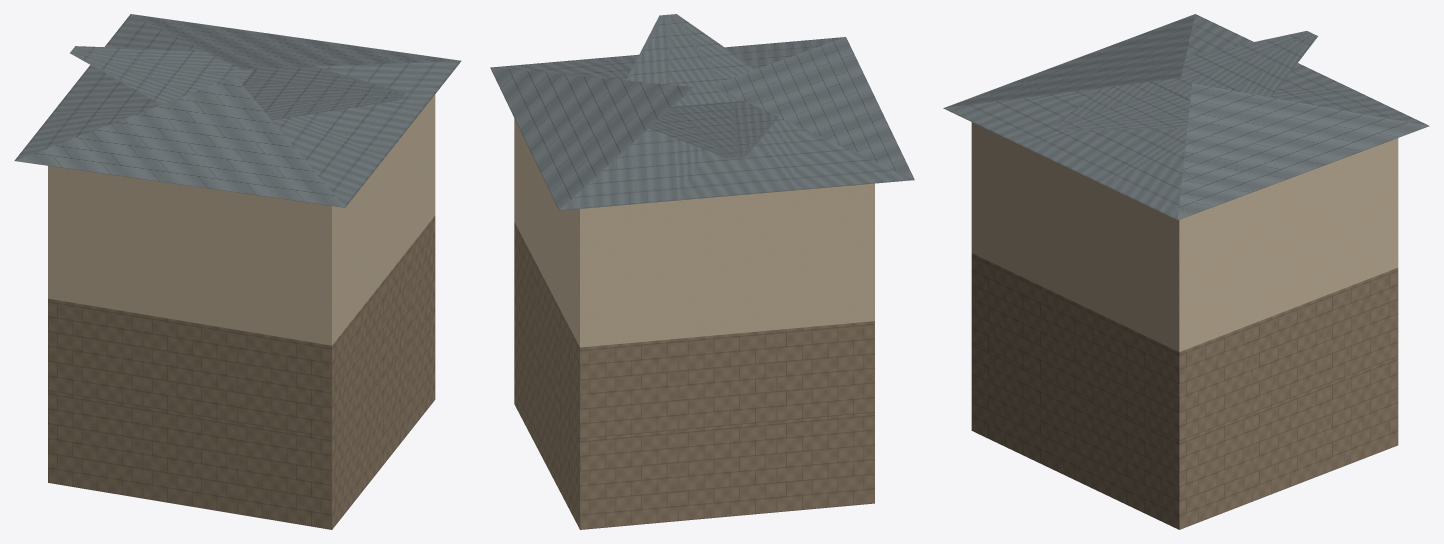
File: bld_c8_6_514.gltf
3 renders of one model, left to right at view 1: azimuth 30°, elevation 25°; view 2: azimuth 150°, elevation 25°; view 3: azimuth 270°, elevation 25°, orthographic. The views are drawn at different scales.
Visible parts, largest first — view 1: bld_c8_6_514; view 2: bld_c8_6_514; view 3: bld_c8_6_514.
Part boxes in pixels (x1,y1,x2,y2): bld_c8_6_514: (14, 14, 461, 529); bld_c8_6_514: (490, 14, 914, 529); bld_c8_6_514: (943, 14, 1429, 529).
Bounding box in the file's own units: 12.11 × 9.8 × 12.07.
3 materials, 3 textured.
